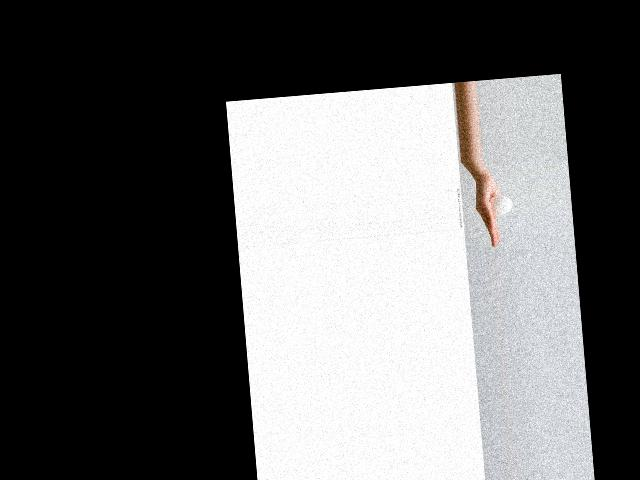egg: (488, 195, 513, 215)
